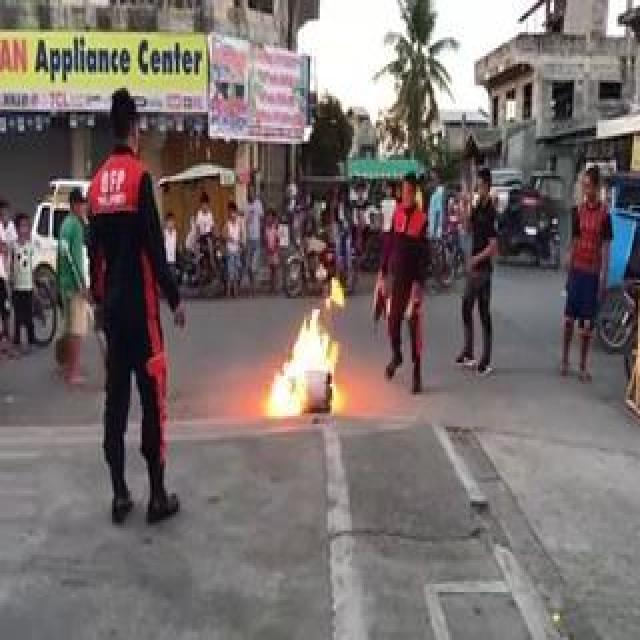Smoke: (302, 316, 400, 431)
